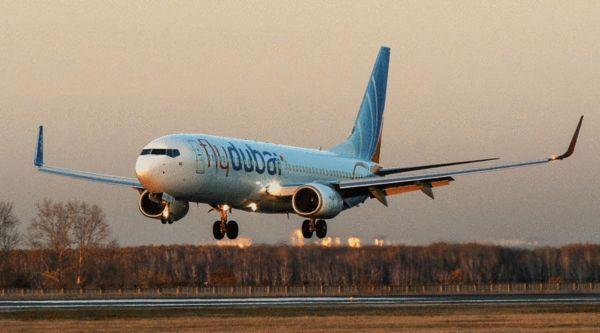airplane: (31, 44, 587, 242)
